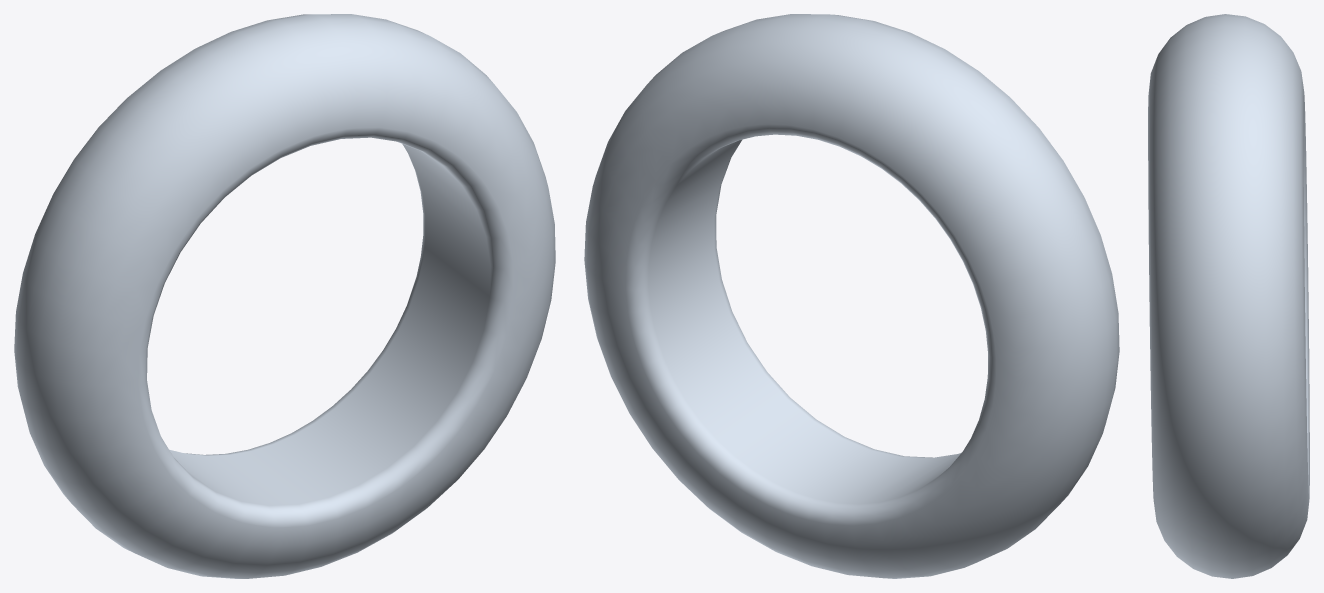
File: RB-042_viewer.glb
The picture shows the model from 3 angles, left to right: view 1: azimuth 30°, elevation 25°; view 2: azimuth 150°, elevation 25°; view 3: azimuth 270°, elevation 25°; orthographic projection. The views are drawn at different scales.
Visible parts, largest first — view 1: basebody_imported1; view 2: basebody_imported1; view 3: basebody_imported1.
Part boxes in pixels (<box>): basebody_imported1: <box>14,14,555,578</box>; basebody_imported1: <box>584,14,1119,578</box>; basebody_imported1: <box>1148,14,1309,578</box>.
Size of the model in its own units: 0.0418 by 0.0418 by 0.012.
